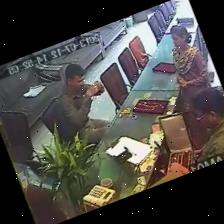person: (170, 26, 208, 148), (59, 64, 108, 144), (191, 88, 223, 163), (192, 88, 223, 164)
